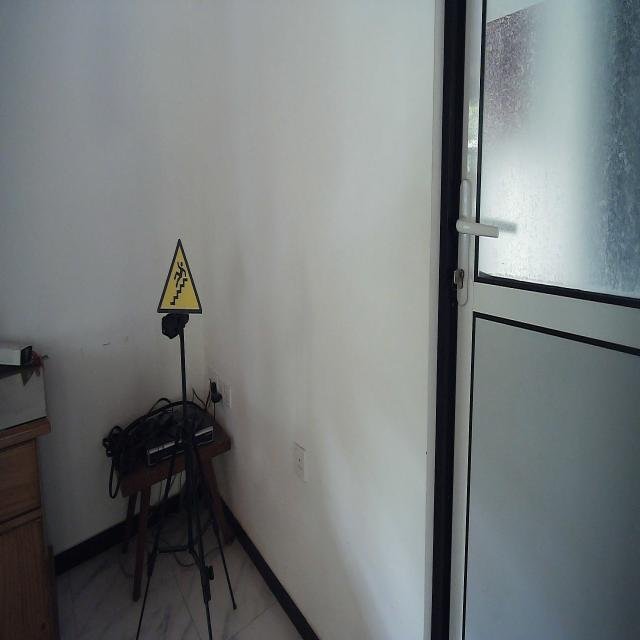stairs: (156, 236, 203, 316)
